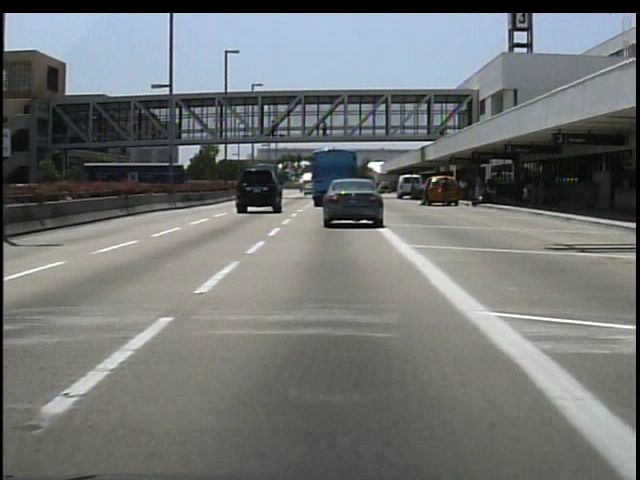person: (439, 176, 456, 211), (318, 117, 332, 143), (268, 116, 282, 138)
